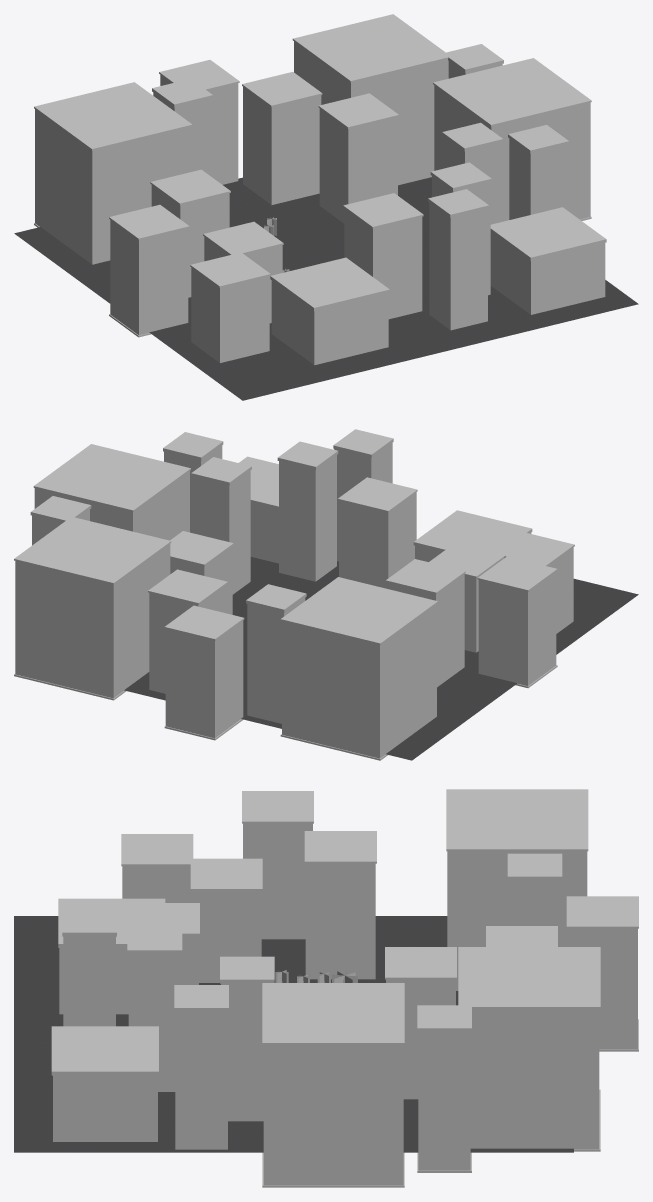
The model's file is city.gltf.
3 renders of one model, top to bottom at view 1: azimuth 30°, elevation 25°; view 2: azimuth 150°, elevation 25°; view 3: azimuth 270°, elevation 25°, orthographic. The views are drawn at different scales.
Parts seen in each view (by area): view 1: Plane, building_08.002, building_08.004, building_08.003, building_01.002, building_01.008, building_06.003, building_04.004, building_04.001, building_01.006, building_02.003, building_06.004 (+8 smaller); view 2: building_08.002, building_08.004, Plane, building_08.003, building_04.003, building_06.003, building_01.003, building_06.004, building_01.010, building_01.009, building_06.001, building_04.004 (+8 smaller); view 3: building_08.003, building_08.004, Plane, building_08.002, building_01.008, building_06.001, building_01.007, building_01.005, building_06.003, building_04.003, building_02.001, building_01.010 (+8 smaller).
Part boxes in pixels (x1,y1,x2,y2): Plane: [14, 177, 638, 400]; building_08.002: [34, 82, 192, 264]; building_08.004: [292, 14, 448, 185]; building_08.003: [433, 58, 591, 221]; building_01.002: [270, 257, 389, 365]; building_01.008: [490, 207, 606, 314]; building_06.003: [109, 204, 189, 337]; building_04.004: [242, 72, 322, 204]; building_04.001: [318, 93, 398, 223]; building_01.006: [428, 189, 488, 330]; building_02.003: [190, 252, 270, 362]; building_06.004: [343, 193, 423, 319]; building_08.002: [280, 577, 437, 760]; building_08.004: [14, 517, 171, 700]; Plane: [124, 557, 638, 760]; building_08.003: [33, 444, 190, 540]; building_04.003: [164, 605, 244, 740]; building_06.003: [477, 556, 557, 688]; building_01.003: [277, 441, 338, 581]; building_06.004: [337, 477, 417, 588]; building_01.010: [191, 457, 251, 594]; building_01.009: [246, 584, 306, 723]; building_06.001: [385, 559, 465, 687]; building_04.004: [148, 569, 227, 693]; building_08.003: [262, 983, 404, 1187]; building_08.004: [458, 947, 600, 1151]; Plane: [14, 916, 573, 1152]; building_08.002: [446, 789, 588, 990]; building_01.008: [51, 1026, 158, 1141]; building_06.001: [304, 831, 376, 979]; building_01.007: [417, 1005, 471, 1172]; building_01.005: [174, 985, 228, 1149]; building_06.003: [242, 791, 313, 939]; building_04.003: [566, 896, 638, 1051]; building_02.001: [190, 858, 262, 982]; building_01.010: [220, 956, 274, 1121].
Bounding box in the file's own units: 14.91 × 3.65 × 14.29.
